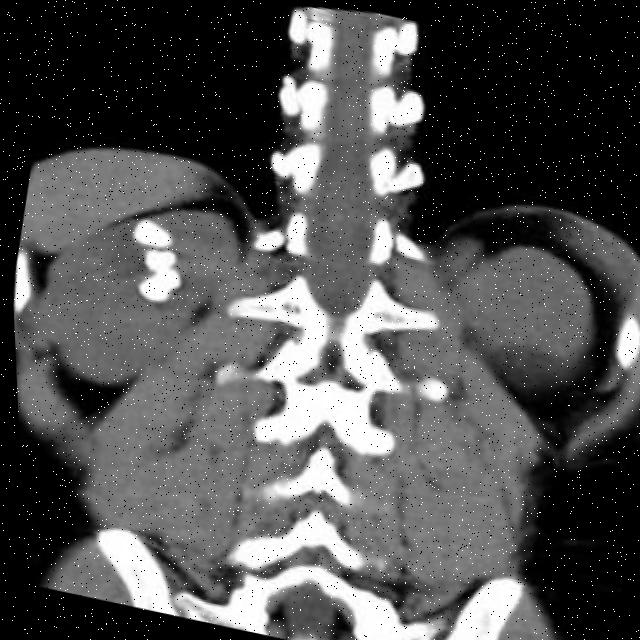Tas_Var: (124, 256, 187, 309), (121, 208, 182, 256), (132, 237, 182, 278)
